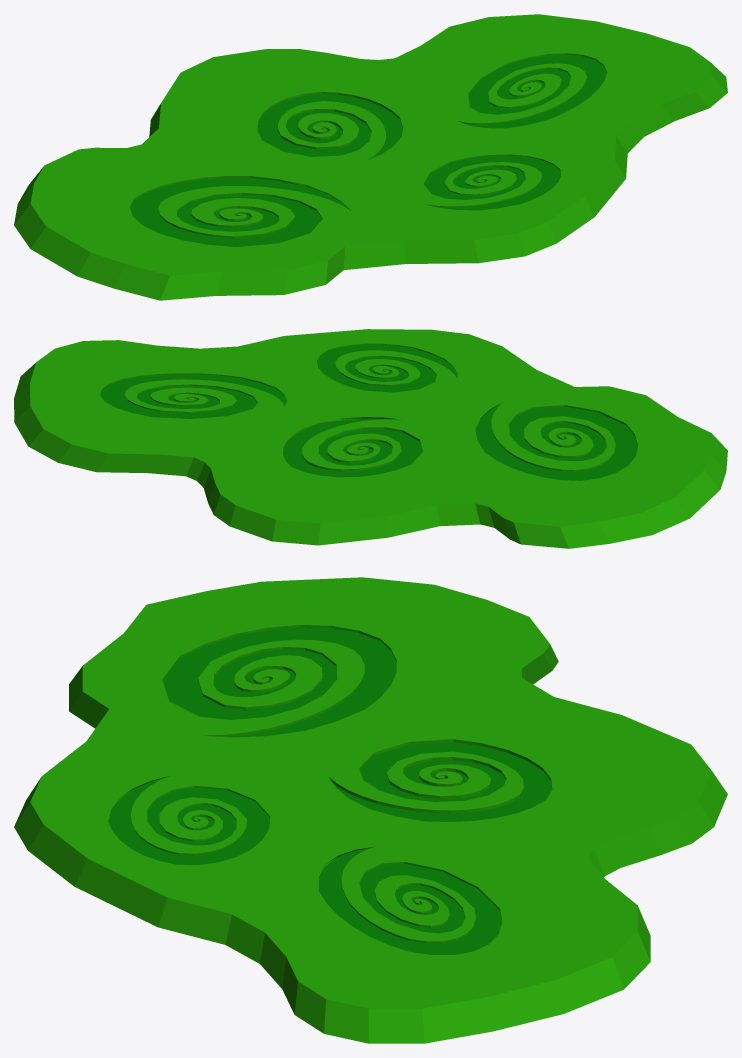
The model's file is Terrain_Verdant_Grass_Mound_Swirls_01.FBX.
3 renders of one model, top to bottom at view 1: azimuth 30°, elevation 25°; view 2: azimuth 150°, elevation 25°; view 3: azimuth 270°, elevation 25°, orthographic. The views are drawn at different scales.
Parts seen in each view (by area): view 1: Terrain_Verdant_Grass_Mound_Swirls_01; view 2: Terrain_Verdant_Grass_Mound_Swirls_01; view 3: Terrain_Verdant_Grass_Mound_Swirls_01.
Boxes of the visible parts, bbox=[...] form: Terrain_Verdant_Grass_Mound_Swirls_01: bbox=[14, 14, 727, 300]; Terrain_Verdant_Grass_Mound_Swirls_01: bbox=[14, 329, 727, 548]; Terrain_Verdant_Grass_Mound_Swirls_01: bbox=[14, 577, 727, 1043].
Bounding box in the file's own units: 7139 × 182 × 4766.
